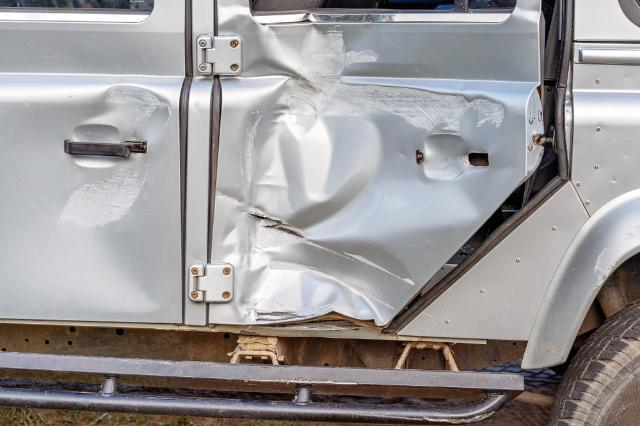dent: (222, 10, 508, 331), (58, 177, 160, 312), (89, 86, 171, 141)
dislocated part: (382, 24, 578, 338)
scratch: (591, 226, 640, 293)
